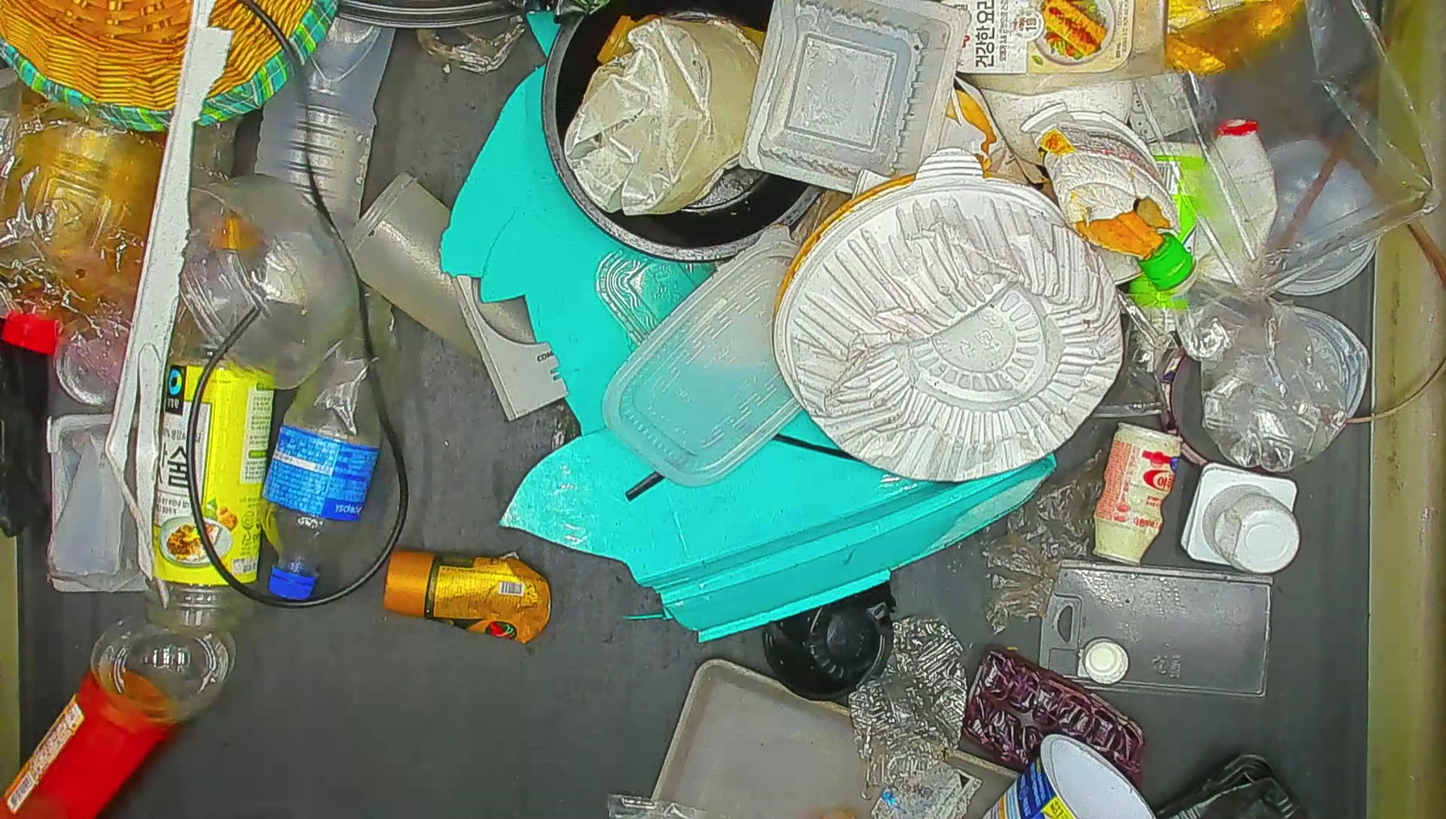PET: (146, 218, 278, 625), (1136, 232, 1348, 471), (258, 282, 395, 603)
PET-C: (935, 0, 1168, 96), (850, 616, 967, 786), (91, 614, 235, 725), (596, 246, 729, 346)
PS-W: (384, 548, 553, 642), (1092, 418, 1182, 570), (1180, 464, 1298, 572)
